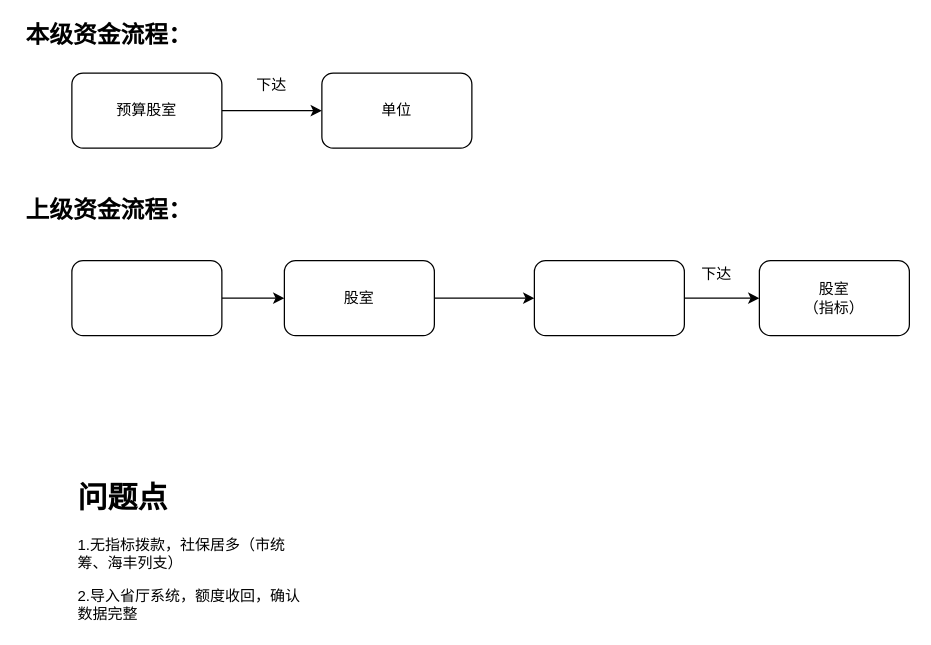
Some shapes in this 931 by 645 pixel diagram are drawn without their labels. Here are the shapes that lost their labels. From the top down, the centre of each, then its label:
At pixel 146 297: "资金管理模块".
At pixel 608 297: "预算股 （经办、审核）".
